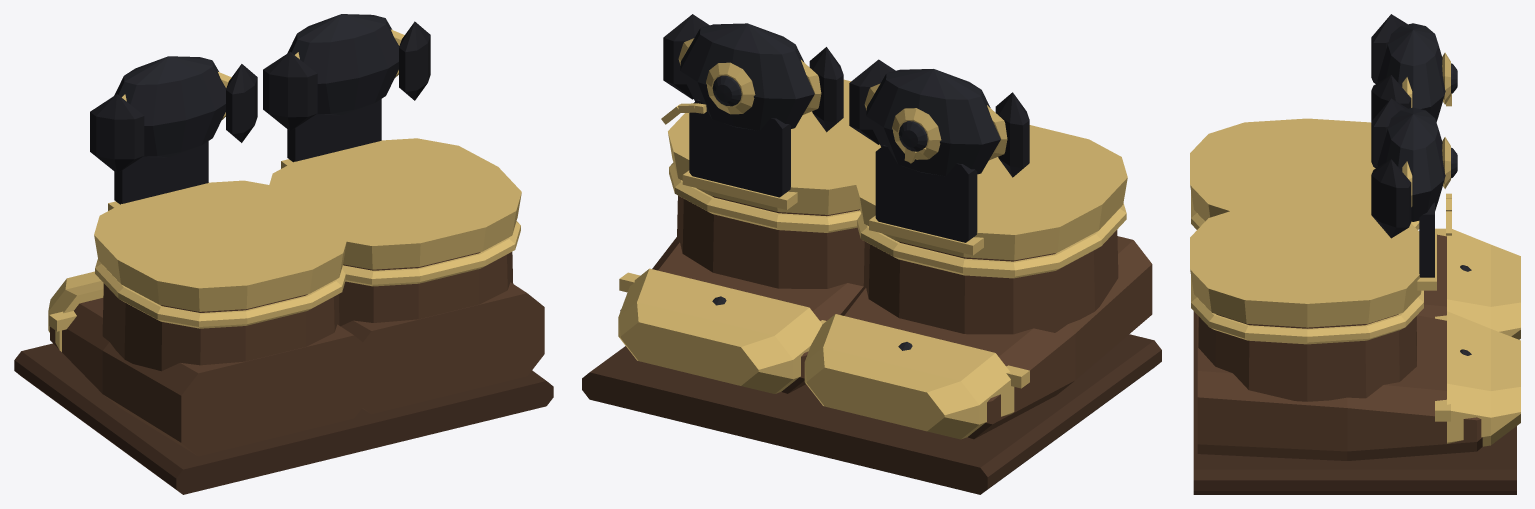
Rendered from look3_shoes_greatsword_transcendent.fbx.
3 views of the same model, side by side, from view 1: azimuth 30°, elevation 25°; view 2: azimuth 150°, elevation 25°; view 3: azimuth 270°, elevation 25° (orthographic). The views are drawn at different scales.
Visible parts, largest first — view 1: Greave_L, Greave_R, Boot_L, Boot_R; view 2: Greave_L, Boot_L, Greave_R, Boot_R; view 3: Greave_R, Boot_R, Greave_L, Boot_L.
Part boxes in pixels (bbox=[...]): Greave_L: bbox=[90, 56, 347, 371]; Greave_R: bbox=[263, 14, 521, 326]; Boot_L: bbox=[14, 271, 380, 494]; Boot_R: bbox=[341, 282, 553, 448]; Greave_L: bbox=[849, 59, 1127, 334]; Boot_L: bbox=[768, 236, 1161, 494]; Greave_R: bbox=[661, 14, 880, 288]; Boot_R: bbox=[582, 237, 863, 449]; Greave_R: bbox=[1190, 98, 1457, 401]; Boot_R: bbox=[1193, 311, 1520, 494]; Greave_L: bbox=[1190, 14, 1457, 229]; Boot_L: bbox=[1193, 228, 1520, 384].
Size of the model in its own units: 220 by 185 by 166.
